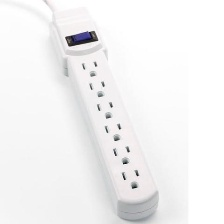three_eye_plug: (44, 4, 162, 224)
